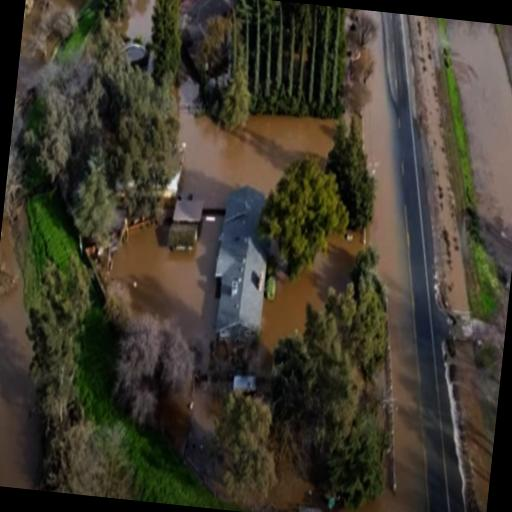flood: (344, 11, 428, 512), (112, 214, 223, 370), (180, 111, 336, 207), (180, 111, 335, 207), (261, 231, 363, 352), (0, 217, 41, 490), (162, 382, 224, 434), (267, 463, 314, 509), (125, 0, 154, 44)
house: (206, 182, 278, 344)
